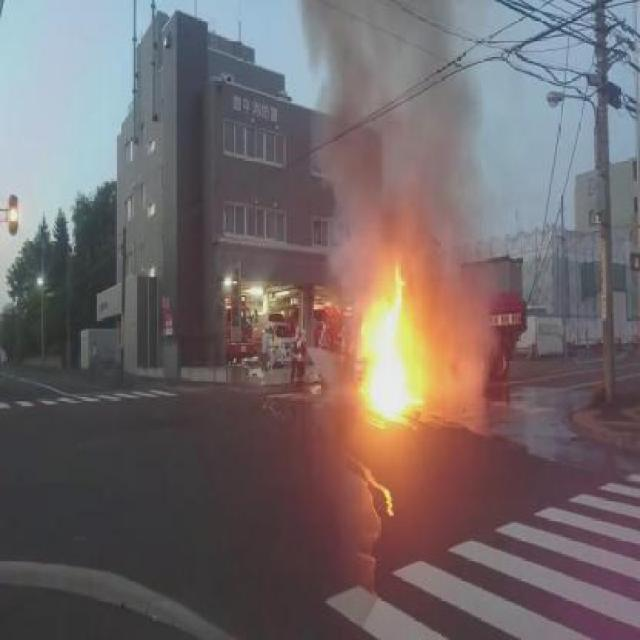Fire: (358, 270, 422, 418)
Smoke: (309, 0, 386, 268), (390, 110, 466, 264), (417, 274, 488, 429)
